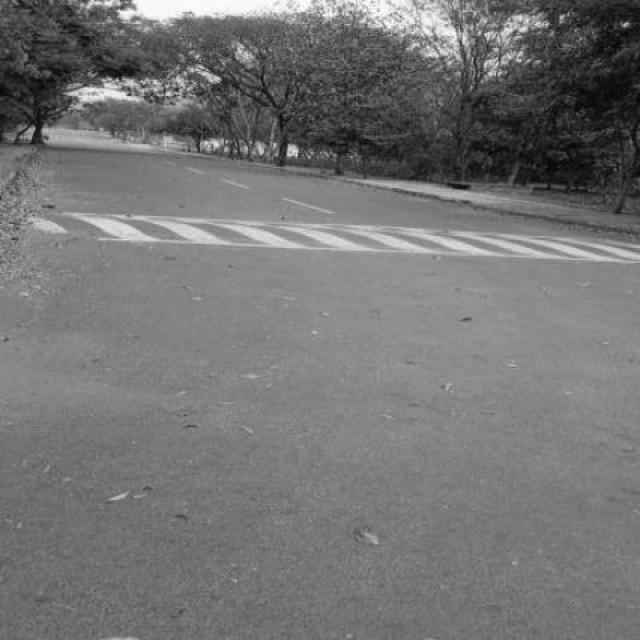Speed Bump: (15, 208, 638, 268)
